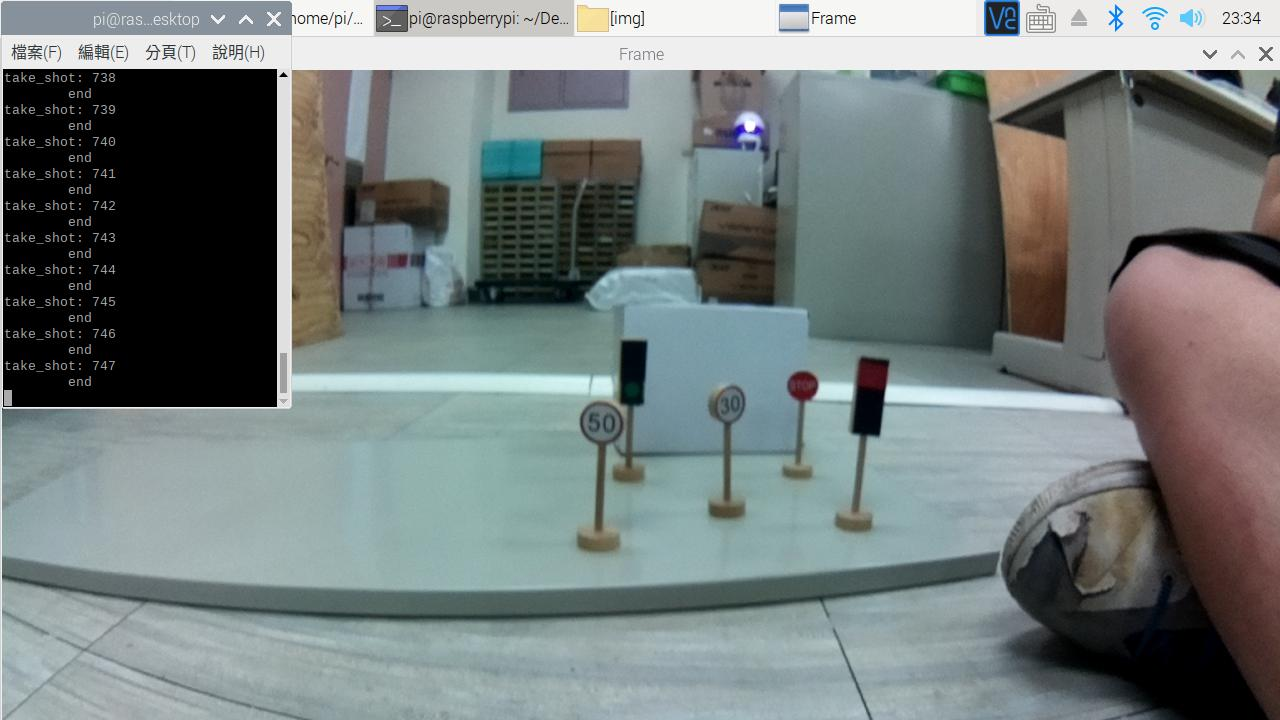Green: (613, 336, 648, 405)
Red: (839, 347, 895, 451)
Speed30: (703, 372, 751, 429)
Speed50: (574, 398, 634, 455)
Stop: (781, 361, 824, 407)
